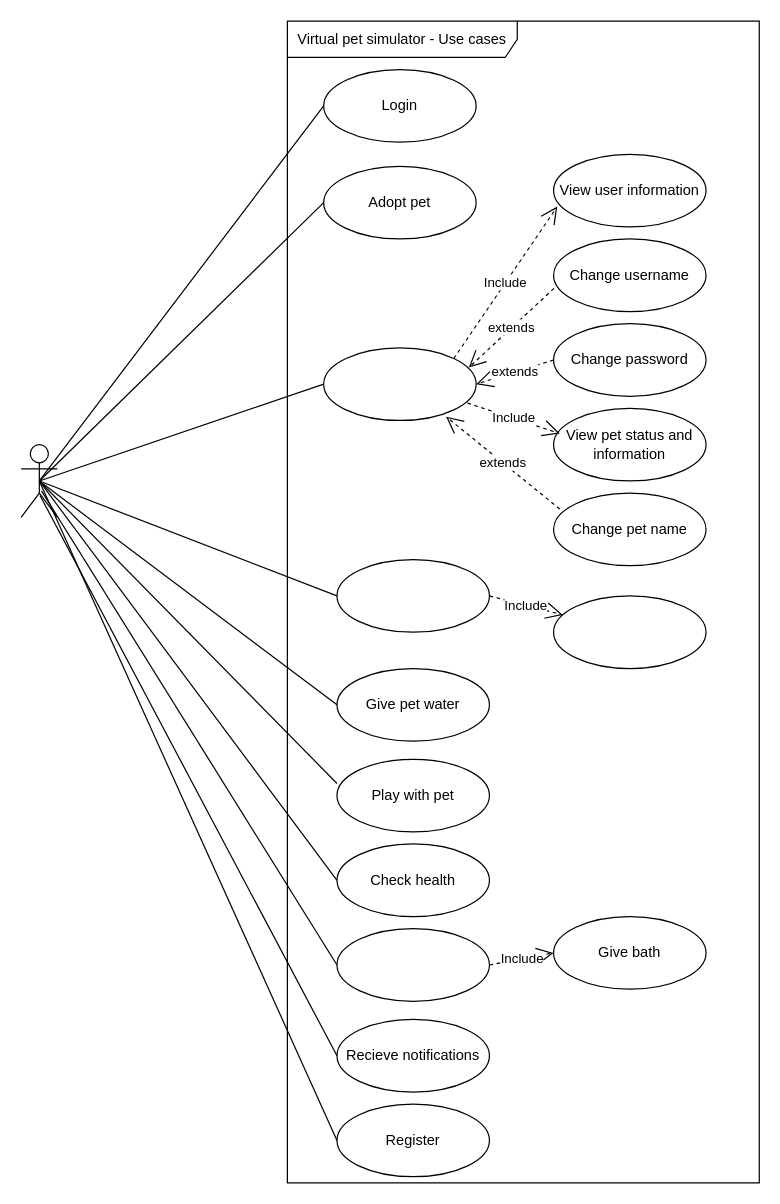
The diagram is 780 pixels wide and 1204 high, and some of its shapes have lost their labels. The box of each missing label's shape, as (x1, y1, x2, y2) in pixels:
Choose food: (552, 595, 706, 669)
Feed pet: (336, 558, 489, 632)
Groom pet: (336, 927, 489, 1001)
Manage account: (322, 347, 476, 420)
User: (20, 443, 57, 517)
